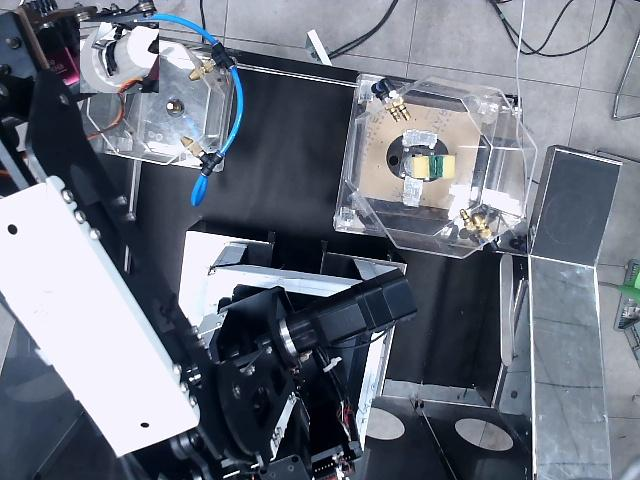cup: (80, 22, 159, 93)
